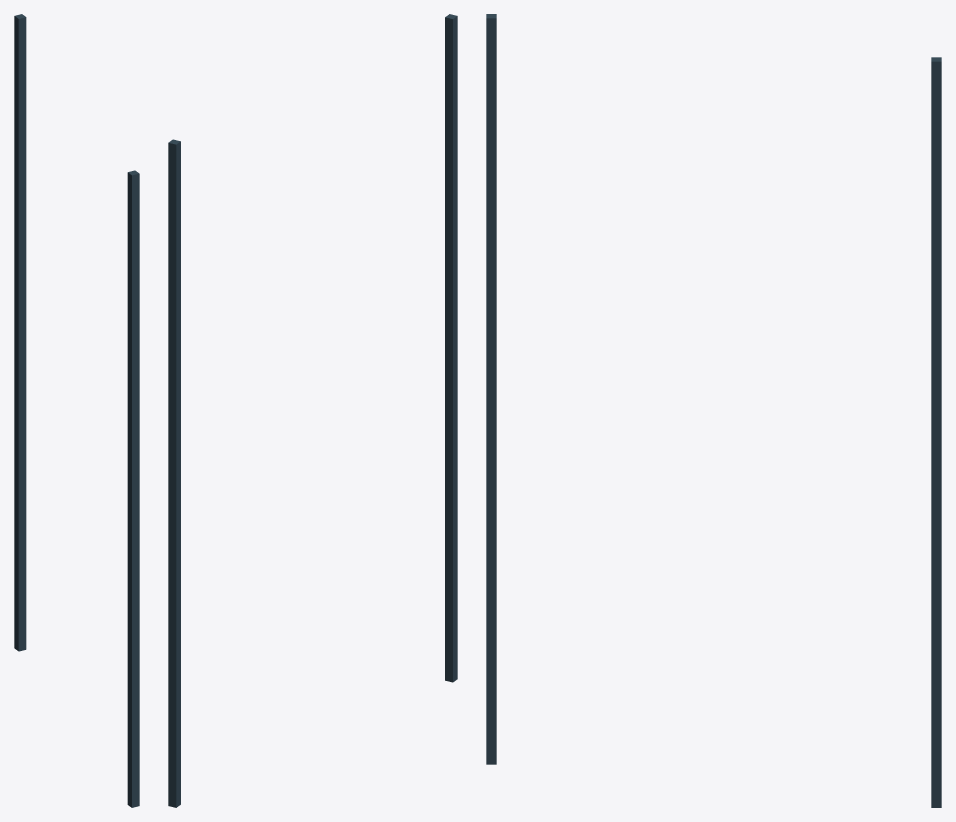
The model's file is v02-transit-world-01-01-05.glb.
The picture shows the model from 3 angles, left to right: view 1: azimuth 30°, elevation 25°; view 2: azimuth 150°, elevation 25°; view 3: azimuth 270°, elevation 25°; orthographic projection. The views are drawn at different scales.
Parts seen in each view (by area): view 1: v02-transit-world-01-01-05; view 2: v02-transit-world-01-01-05; view 3: v02-transit-world-01-01-05.
Part boxes in pixels (x1,y1,x2,y2): v02-transit-world-01-01-05: (14, 14, 139, 807); v02-transit-world-01-01-05: (168, 14, 457, 807); v02-transit-world-01-01-05: (486, 14, 941, 807).
Bounding box in the file's own units: 13.2 × 96.25 × 53.19.
